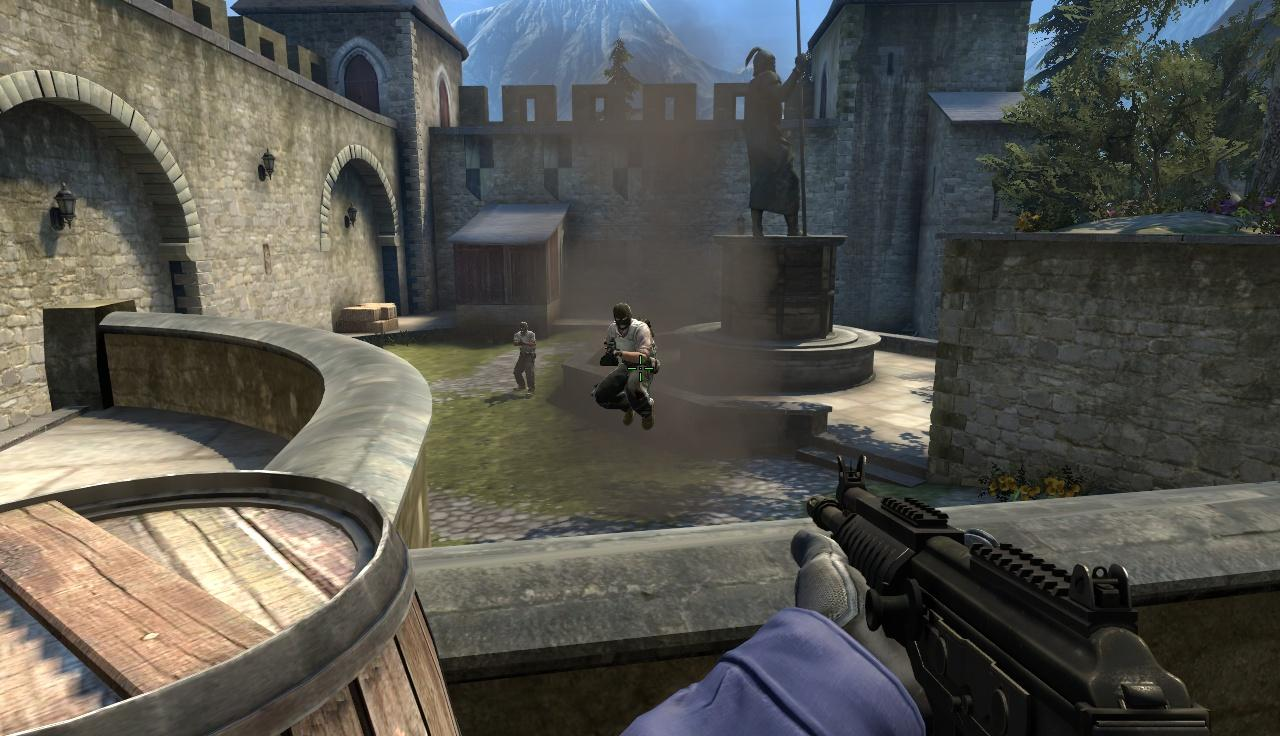rifle: (802, 452, 1232, 736)
tt: (600, 302, 654, 429), (513, 321, 536, 396)
tthead: (613, 303, 632, 329), (519, 321, 528, 335)
